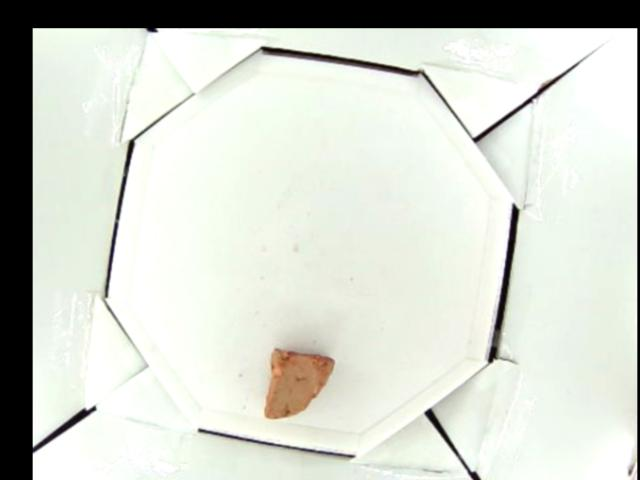Brisk: (265, 346, 335, 418)
